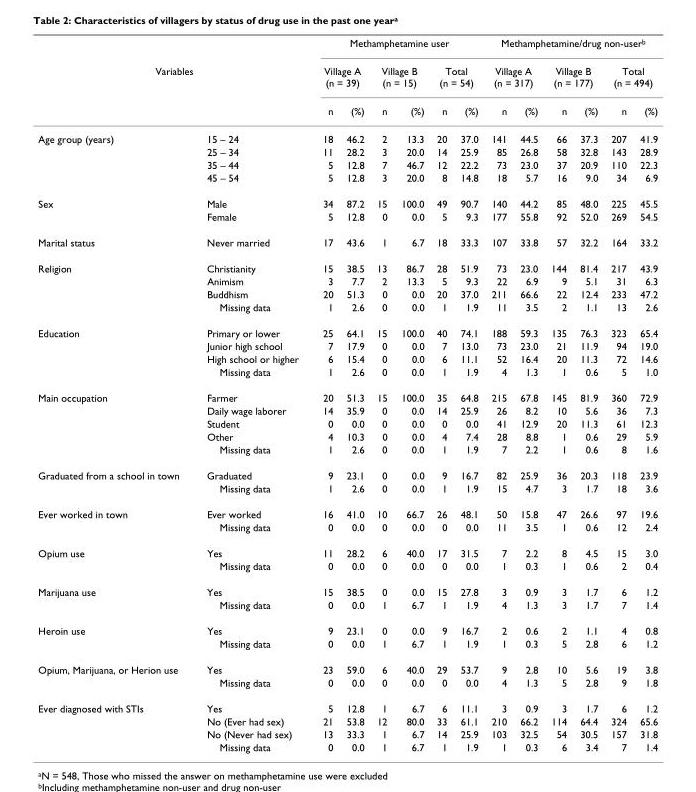table: (37, 36, 657, 752)
table column: (37, 36, 192, 752), (192, 36, 309, 752), (393, 36, 429, 752), (453, 36, 484, 752), (512, 36, 543, 752), (572, 36, 603, 752), (309, 36, 339, 752), (339, 36, 369, 752), (543, 36, 572, 752), (603, 36, 632, 752), (484, 36, 512, 752), (632, 36, 657, 752), (369, 36, 393, 752), (429, 36, 453, 752)
table column header: (37, 36, 657, 124)
table row: (37, 56, 657, 96), (37, 96, 657, 124), (37, 229, 657, 254), (37, 36, 657, 56), (37, 124, 657, 144), (37, 170, 657, 190), (37, 209, 657, 229), (37, 254, 657, 274), (37, 319, 657, 339), (37, 364, 657, 384), (37, 442, 657, 462), (37, 500, 657, 520), (37, 539, 657, 559), (37, 597, 657, 617), (37, 636, 657, 656), (37, 675, 657, 695), (37, 190, 657, 209), (37, 300, 657, 319), (37, 384, 657, 403), (37, 462, 657, 481), (37, 481, 657, 500), (37, 520, 657, 539), (37, 559, 657, 578), (37, 578, 657, 597), (37, 617, 657, 636), (37, 656, 657, 675), (37, 695, 657, 714), (37, 144, 657, 157), (37, 157, 657, 170), (37, 274, 657, 287), (37, 287, 657, 300), (37, 339, 657, 352), (37, 403, 657, 416), (37, 416, 657, 429), (37, 429, 657, 442), (37, 714, 657, 727), (37, 727, 657, 740), (37, 352, 657, 364), (37, 740, 657, 752)
table spanning cell: (37, 384, 192, 462), (37, 56, 309, 96), (37, 124, 192, 190), (37, 254, 192, 319), (37, 319, 192, 384), (37, 695, 192, 752), (37, 190, 192, 229), (37, 500, 192, 539), (37, 539, 192, 578), (37, 578, 192, 617), (37, 617, 192, 656), (37, 656, 192, 695), (37, 462, 192, 500), (309, 36, 484, 56), (484, 36, 657, 56), (309, 56, 369, 96), (369, 56, 429, 96), (543, 56, 603, 96), (484, 56, 543, 96), (429, 56, 484, 96), (603, 56, 657, 96)
